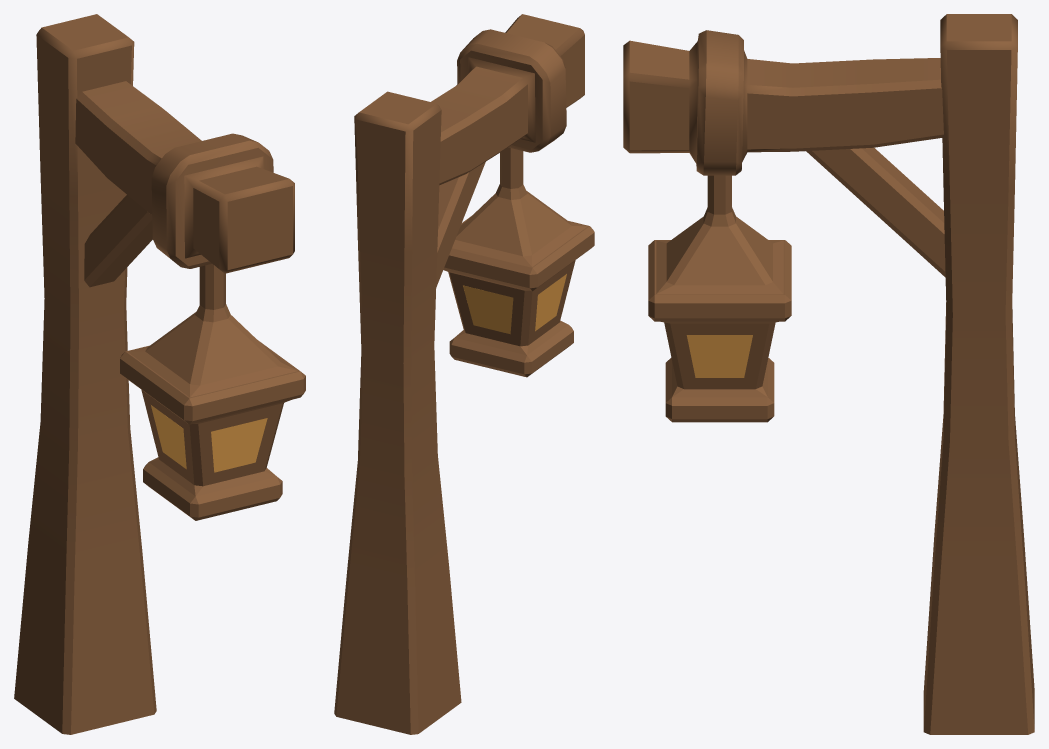
File: streetlight-compressed.glb
The picture shows the model from 3 angles, left to right: view 1: azimuth 30°, elevation 25°; view 2: azimuth 150°, elevation 25°; view 3: azimuth 270°, elevation 25°; orthographic projection. The views are drawn at different scales.
Visible parts, largest first — view 1: streetlightPhysical; view 2: streetlightPhysical; view 3: streetlightPhysical.
Part boxes in pixels (left/top/right/bottom): streetlightPhysical: left=14, top=14, right=305, bottom=734; streetlightPhysical: left=334, top=14, right=594, bottom=734; streetlightPhysical: left=623, top=14, right=1034, bottom=734.
Size of the model in its own units: 0.4933 by 2.6 by 1.42.
